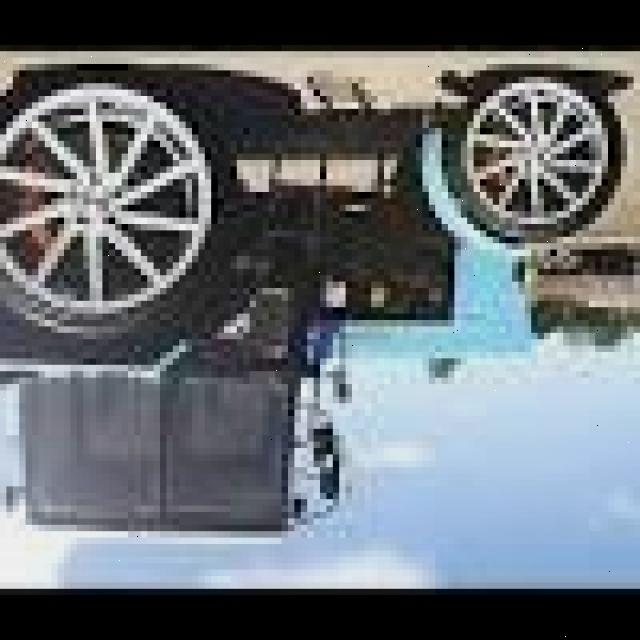Tratores - v5 YOLO V8L 2024-11-13: (0, 67, 624, 546)
